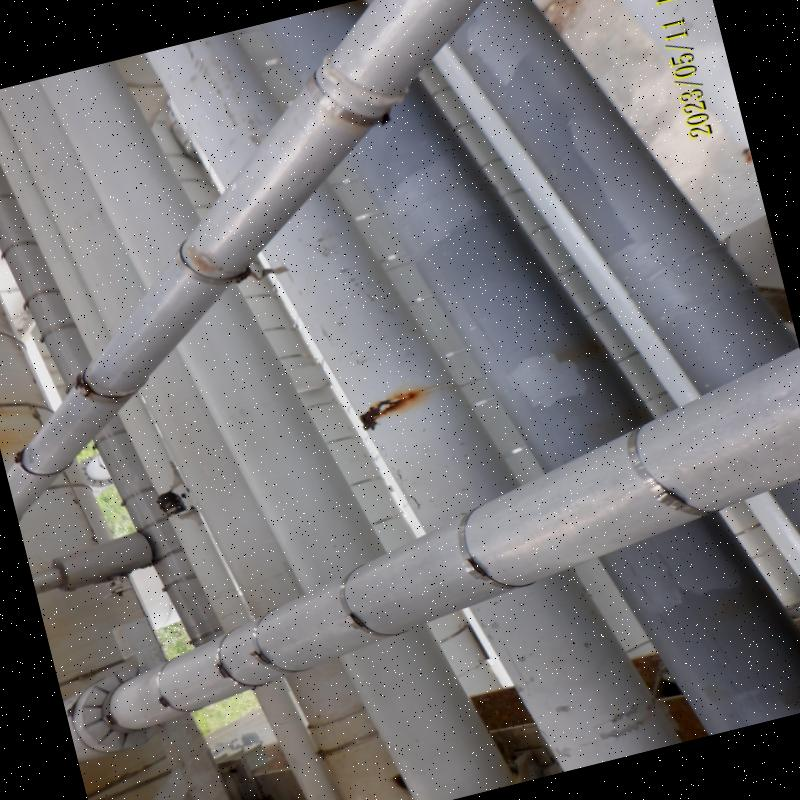corrosion: (355, 388, 412, 430)
